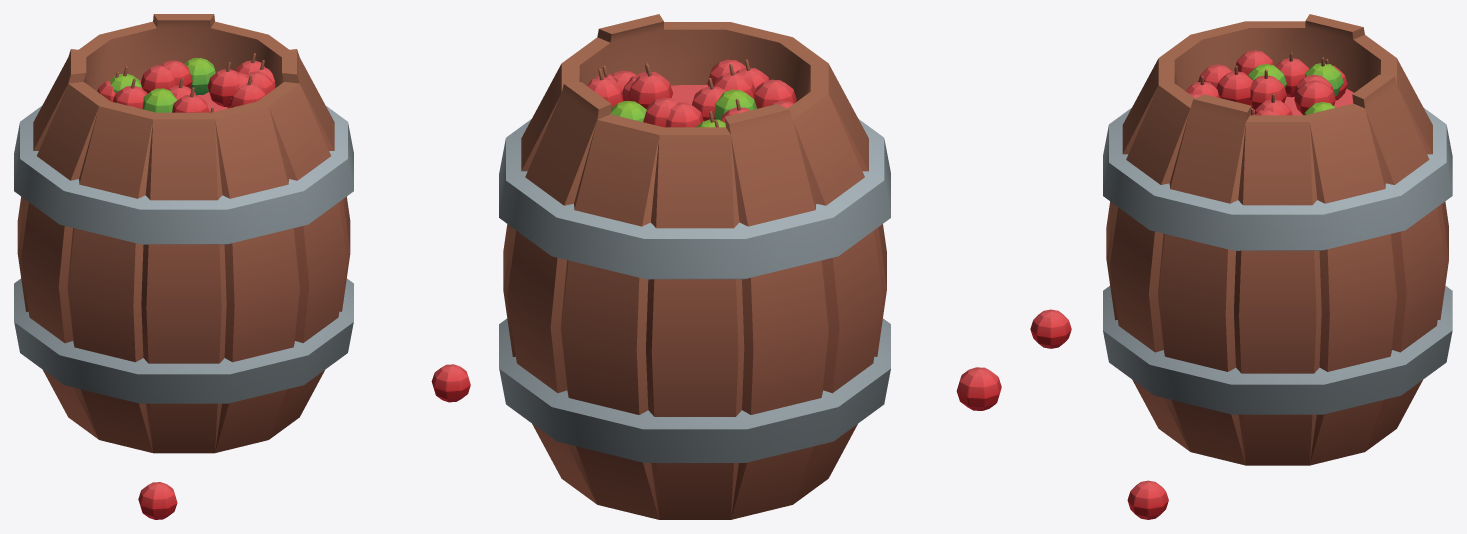
The model's file is apple_barrel_19.glb.
3 renders of one model, left to right at view 1: azimuth 30°, elevation 25°; view 2: azimuth 150°, elevation 25°; view 3: azimuth 270°, elevation 25°, orthographic. The views are drawn at different scales.
Visible parts, largest first — view 1: apple_barrel_19; view 2: apple_barrel_19; view 3: apple_barrel_19.
Part boxes in pixels (left/top/right/bottom): apple_barrel_19: left=14, top=14, right=470, bottom=519; apple_barrel_19: left=499, top=14, right=1001, bottom=519; apple_barrel_19: left=1030, top=14, right=1452, bottom=519.
Size of the model in its own units: 1.38 by 1.2 by 1.3.
Materials: 2 (2 with a texture image).
